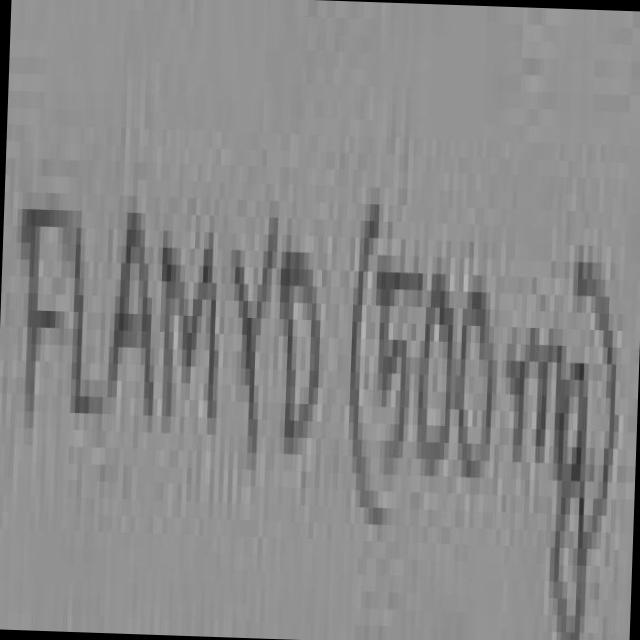0: (418, 281, 456, 477), (458, 292, 496, 477)
5: (381, 273, 420, 466)
A: (109, 212, 152, 415)
D: (284, 251, 320, 454)
F: (21, 207, 71, 428)
L: (71, 227, 103, 414)
M: (162, 232, 219, 434)
Y: (235, 217, 276, 461)
g: (557, 363, 588, 640)
m: (510, 328, 569, 472)
